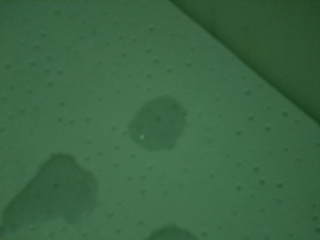Water_detected: (23, 158, 86, 218), (127, 99, 185, 150), (151, 217, 191, 240)
